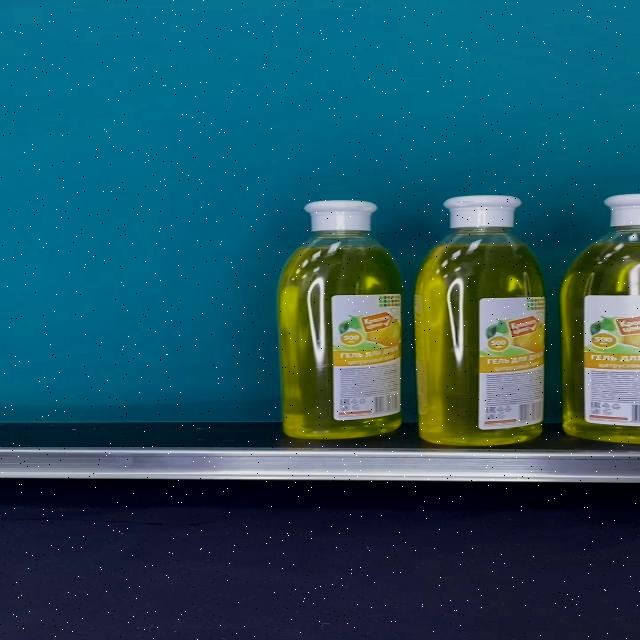Bottle: (416, 196, 546, 446), (279, 199, 401, 440)
Cap: (443, 196, 521, 229), (304, 200, 378, 233)
